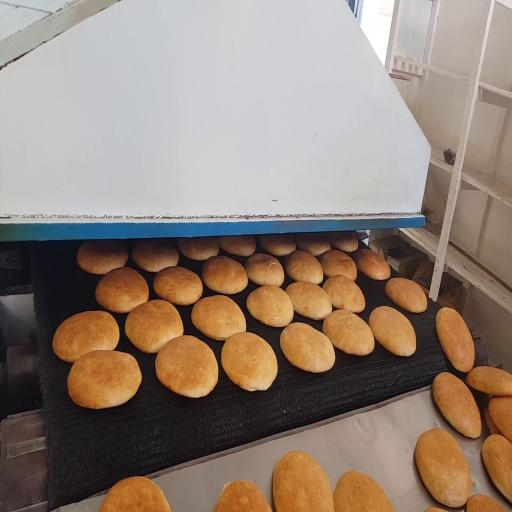bread: (415, 429, 471, 507), (67, 350, 141, 409), (156, 336, 218, 397), (273, 451, 334, 511), (53, 311, 119, 362), (222, 333, 277, 391), (432, 373, 481, 438), (125, 300, 183, 353), (280, 323, 335, 372), (191, 295, 246, 340), (96, 267, 149, 313), (436, 308, 474, 372), (100, 477, 170, 511), (334, 471, 393, 511), (369, 306, 416, 356), (323, 310, 374, 356), (482, 435, 511, 502), (247, 286, 293, 327), (154, 267, 202, 305), (77, 240, 128, 274), (202, 256, 247, 294), (214, 481, 271, 511), (286, 283, 332, 319), (323, 275, 365, 312), (132, 239, 178, 272), (385, 278, 427, 313), (466, 366, 511, 396), (285, 251, 323, 284), (245, 254, 284, 286), (320, 250, 357, 280), (355, 249, 390, 280), (488, 397, 511, 442), (177, 237, 220, 261), (219, 235, 256, 257), (296, 233, 330, 256), (260, 234, 295, 256), (467, 495, 505, 511), (330, 232, 358, 252), (484, 407, 501, 434), (425, 507, 446, 511)
